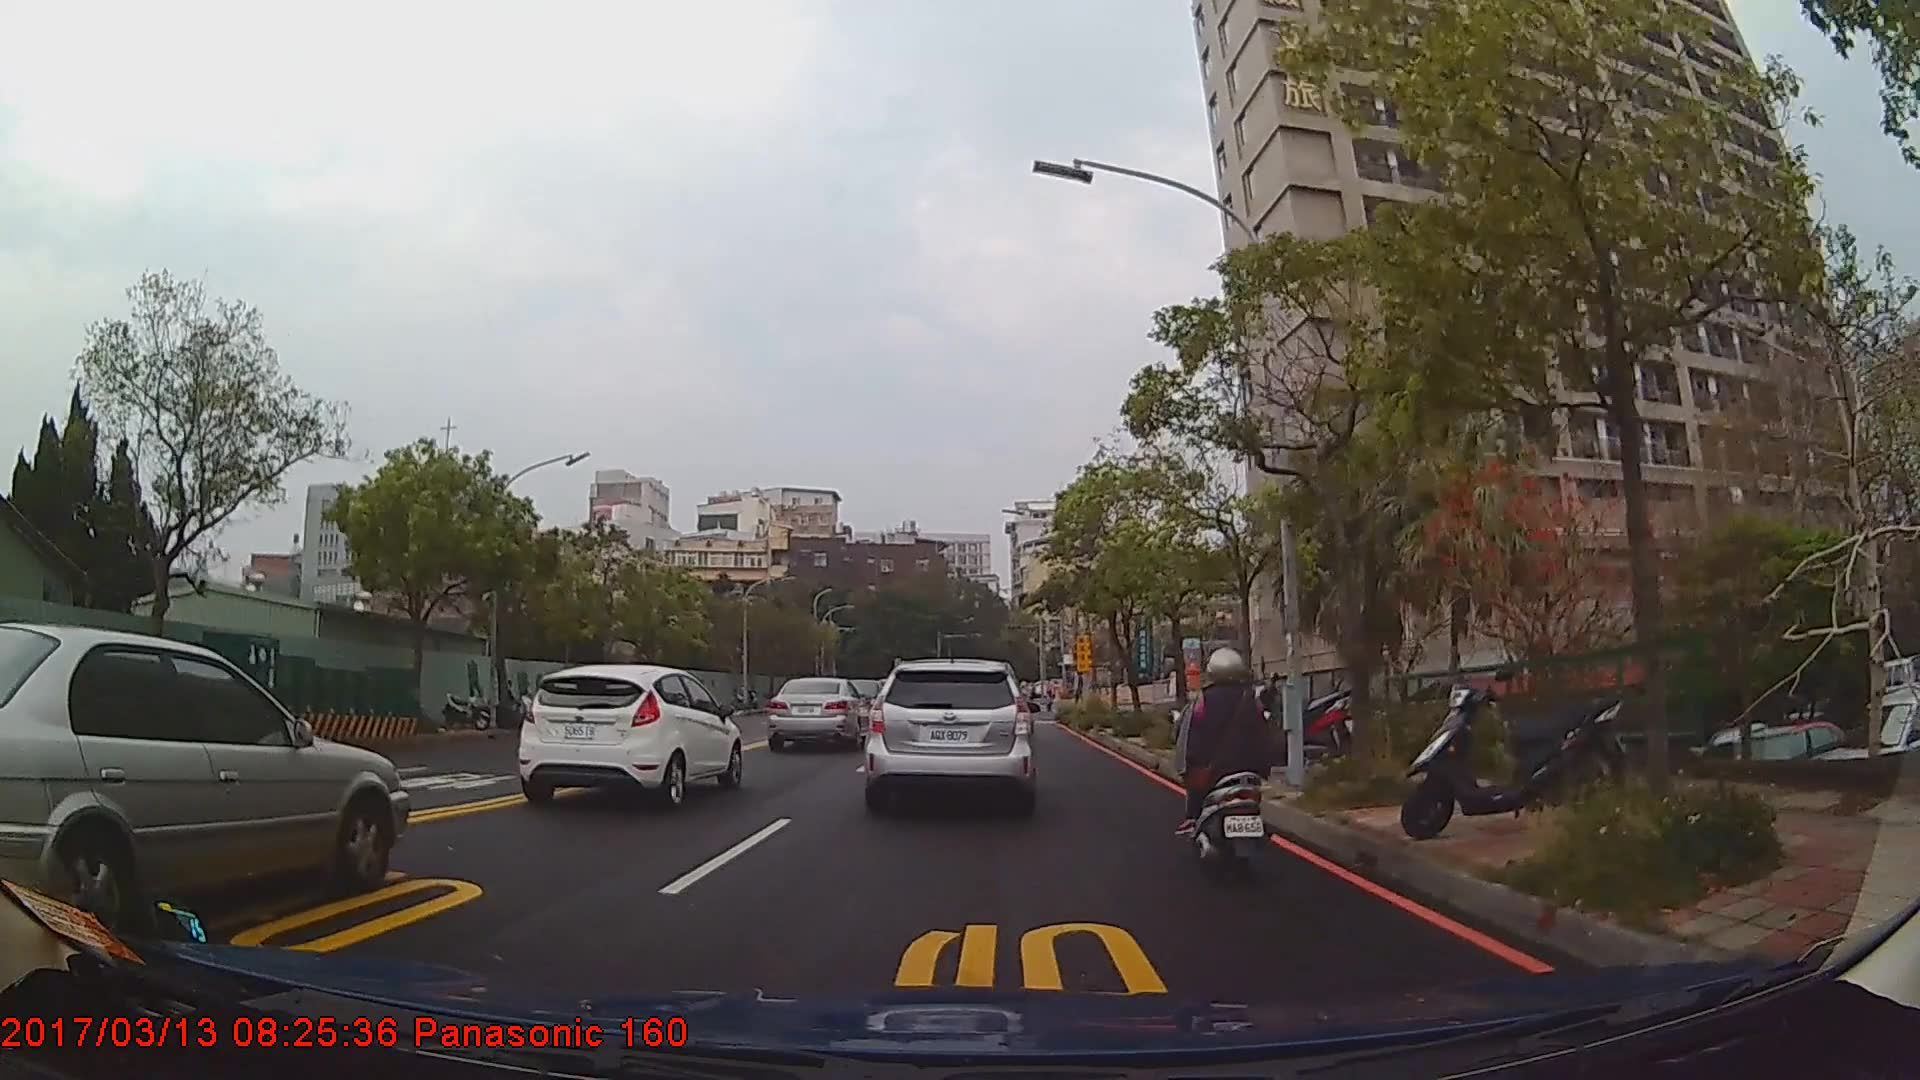rider: (1174, 646, 1277, 882)
vehicle: (0, 618, 408, 942), (515, 663, 740, 813), (864, 657, 1035, 819), (767, 673, 871, 753)
